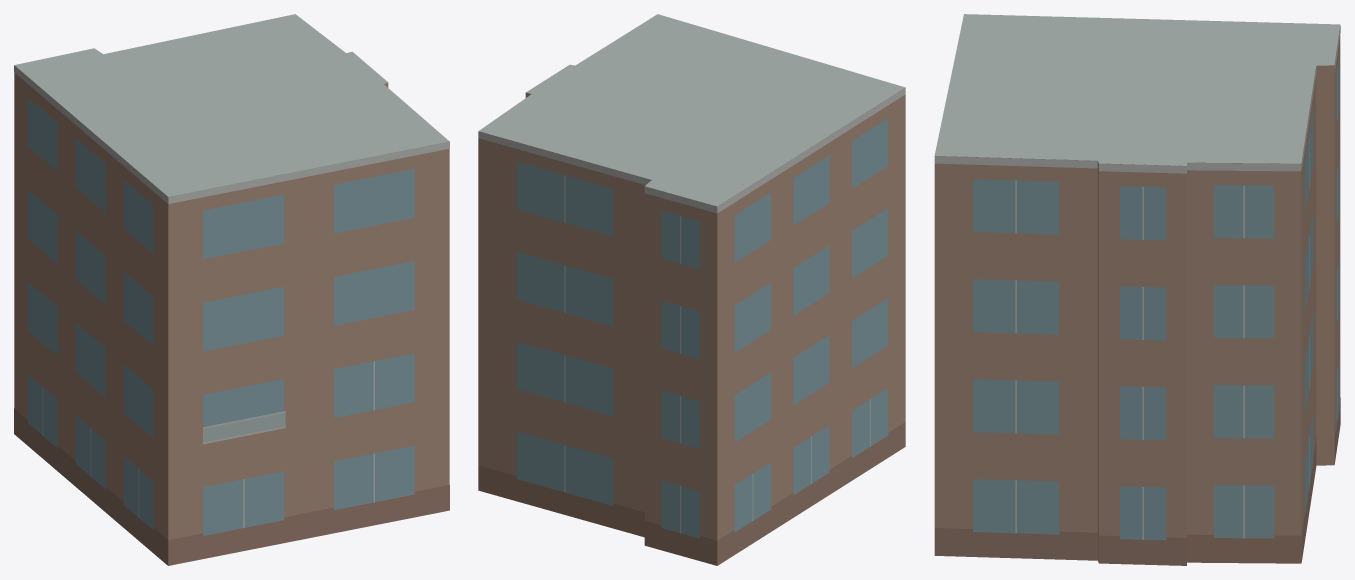
The model's file is survey-upis-32703095.glb.
3 views of the same model, side by side, from view 1: azimuth 30°, elevation 25°; view 2: azimuth 150°, elevation 25°; view 3: azimuth 270°, elevation 25° (orthographic). The views are drawn at different scales.
Parts seen in each view (by area): view 1: survey-upis-32703095.tmp; view 2: survey-upis-32703095.tmp; view 3: survey-upis-32703095.tmp.
Part boxes in pixels (x1=…): survey-upis-32703095.tmp: x1=14, y1=14, x2=449, y2=565; survey-upis-32703095.tmp: x1=478, y1=14, x2=905, y2=565; survey-upis-32703095.tmp: x1=934, y1=14, x2=1340, y2=565.
Size of the model in its own units: 10.23 by 12.55 by 11.56.
